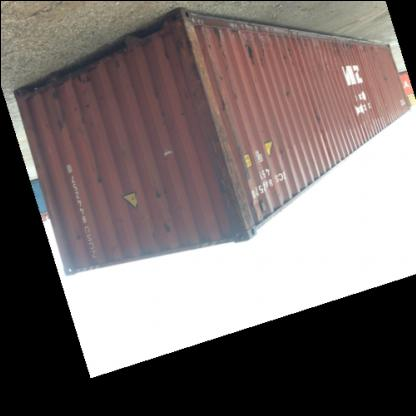Damage: (204, 120, 250, 235), (98, 36, 154, 78), (155, 22, 197, 66), (67, 100, 97, 138), (208, 72, 232, 118), (266, 136, 304, 164), (41, 81, 60, 136), (274, 35, 306, 66), (209, 24, 241, 53), (326, 40, 356, 70), (62, 64, 94, 89), (84, 166, 106, 194), (308, 104, 324, 140), (240, 43, 256, 69), (150, 182, 164, 210), (158, 219, 178, 238), (146, 84, 165, 104), (70, 226, 84, 250), (278, 85, 292, 103), (190, 76, 200, 100), (177, 104, 187, 128), (377, 74, 389, 92), (360, 44, 374, 58)
